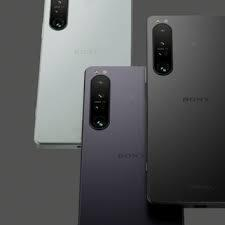Smartphone: (37, 0, 135, 152), (85, 68, 178, 225), (150, 16, 225, 206)
